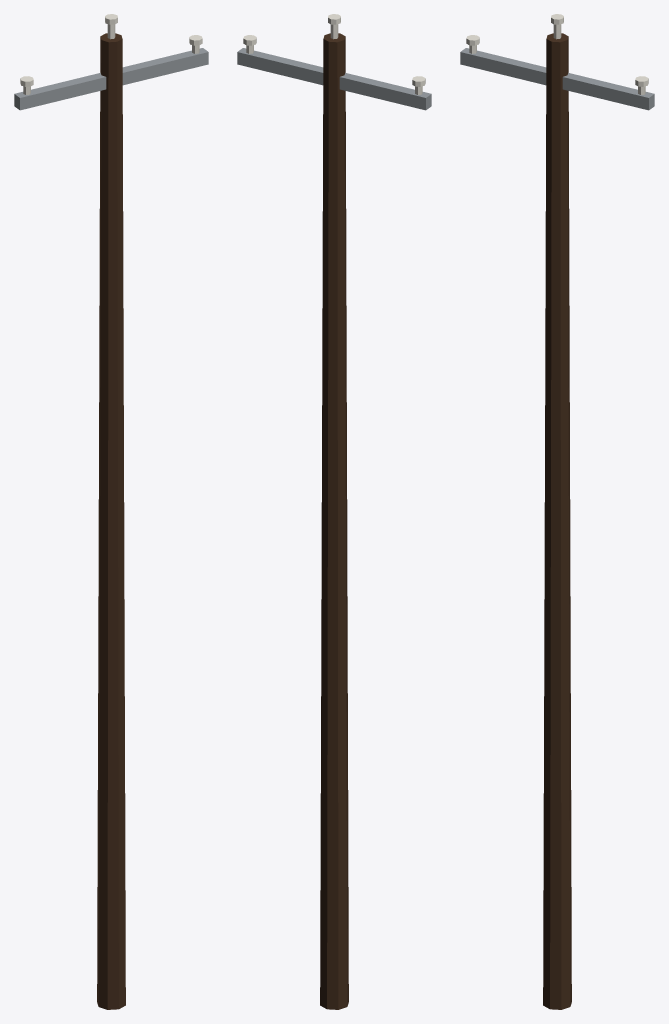
File: prop-power_pole.glb
3 views of the same model, side by side, from view 1: azimuth 30°, elevation 25°; view 2: azimuth 150°, elevation 25°; view 3: azimuth 330°, elevation 25° (orthographic).
Parts seen in each view (by area): view 1: power_pole; view 2: power_pole; view 3: power_pole.
Part boxes in pixels (x1=…): power_pole: x1=14, y1=14, x2=208, y2=1009; power_pole: x1=237, y1=14, x2=431, y2=1009; power_pole: x1=460, y1=14, x2=654, y2=1009.
Size of the model in its own units: 1.9 by 9.5 by 0.26.
